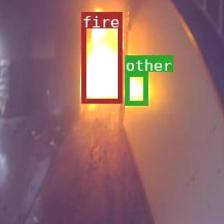fire: (80, 12, 122, 102)
